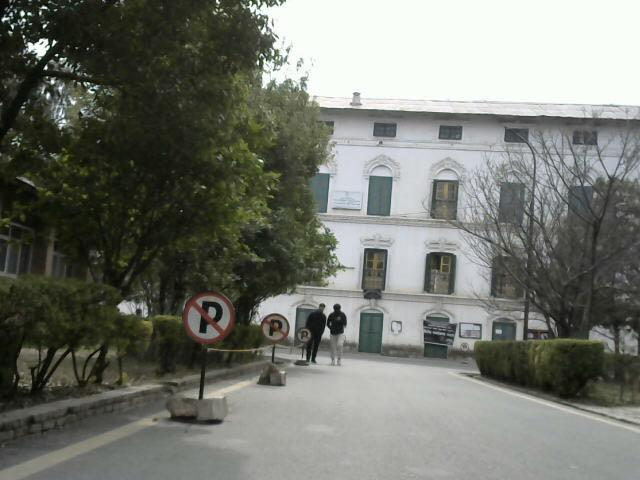Building: (316, 103, 533, 344)
Person: (329, 296, 362, 374)
Road: (110, 359, 640, 479)
Traffic sign: (179, 286, 244, 422), (259, 309, 294, 382), (294, 321, 317, 376)
Tree: (3, 1, 335, 292), (490, 125, 640, 356), (3, 278, 133, 402)
